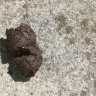Dog: (5, 29, 42, 76)
